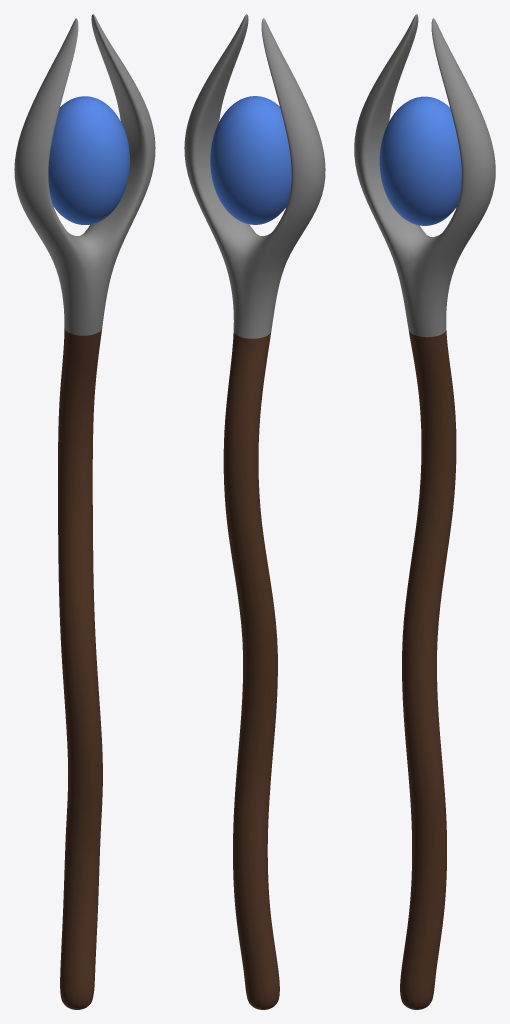
File: Staff.fbx
3 renders of one model, left to right at view 1: azimuth 30°, elevation 25°; view 2: azimuth 150°, elevation 25°; view 3: azimuth 330°, elevation 25°, orthographic.
Parts seen in each view (by area): view 1: Staff, StaffCenter; view 2: Staff, StaffCenter; view 3: Staff, StaffCenter.
Boxes of the visible parts, x1=… form: Staff: x1=14, y1=14, x2=155, y2=1009; StaffCenter: x1=48, y1=96, x2=129, y2=224; Staff: x1=184, y1=14, x2=325, y2=1009; StaffCenter: x1=210, y1=96, x2=291, y2=224; Staff: x1=354, y1=14, x2=495, y2=1009; StaffCenter: x1=379, y1=96, x2=461, y2=225.
Bounding box in the file's own units: 433 × 3056 × 251.
